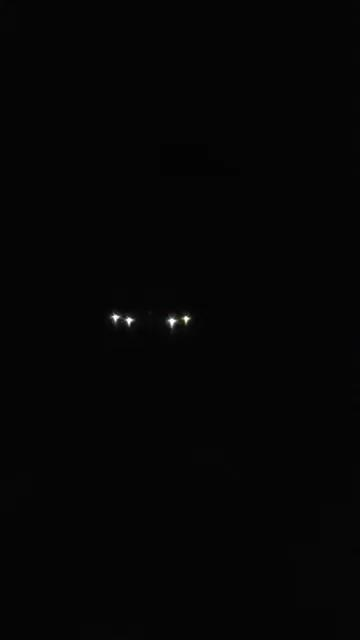Plane: (80, 281, 221, 358)
